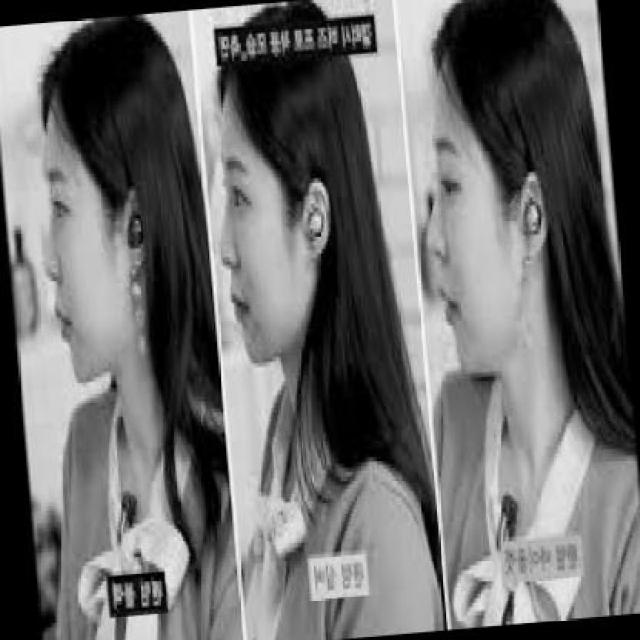earphone: (291, 192, 333, 256), (126, 202, 154, 277), (520, 188, 548, 250)
